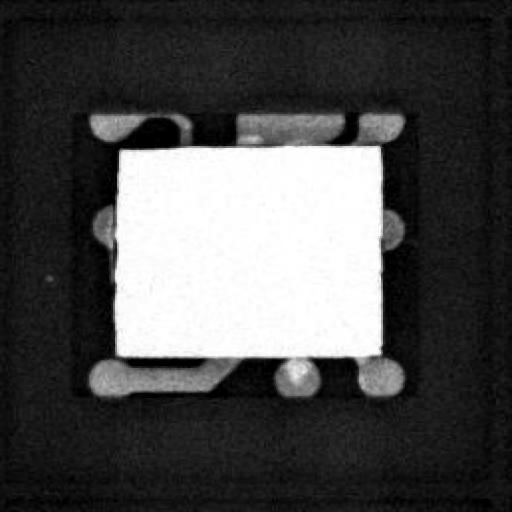DIE_INK: (40, 269, 54, 283)
